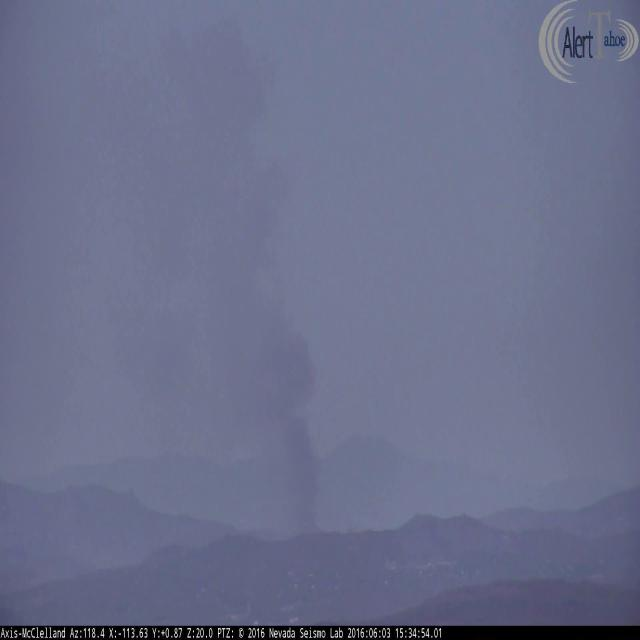smoke: (122, 12, 339, 540)
